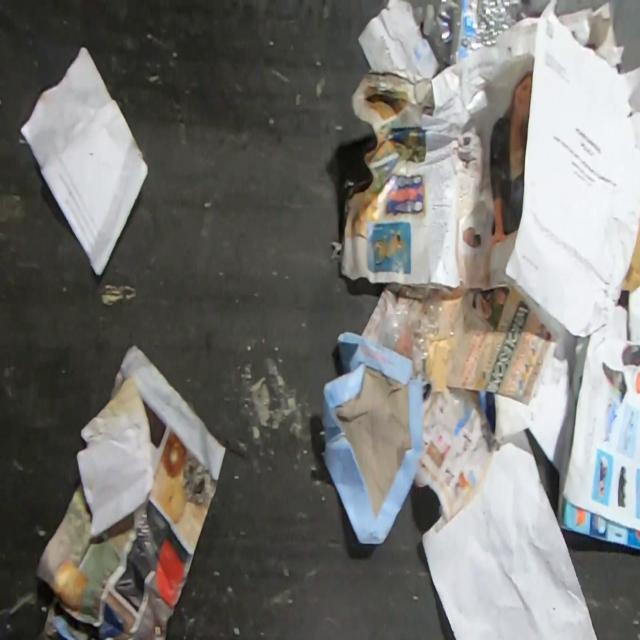cardboard: (320, 331, 424, 546)
rigid_plastic: (421, 0, 544, 65)
soft_plastic: (379, 300, 473, 379)
